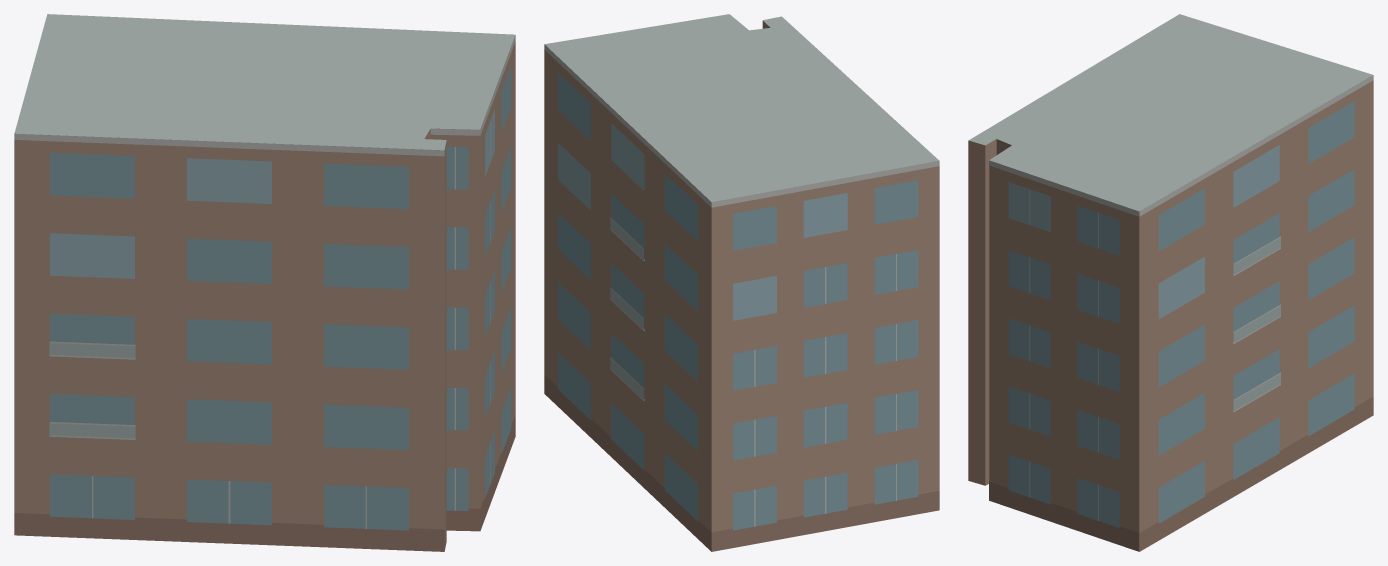
File: survey-upis-32845787.glb
The picture shows the model from 3 angles, left to right: view 1: azimuth 30°, elevation 25°; view 2: azimuth 150°, elevation 25°; view 3: azimuth 270°, elevation 25°; orthographic projection. The views are drawn at different scales.
Parts seen in each view (by area): view 1: survey-upis-32845787.tmp; view 2: survey-upis-32845787.tmp; view 3: survey-upis-32845787.tmp.
Part boxes in pixels (x1=…): survey-upis-32845787.tmp: x1=14, y1=14, x2=515, y2=551; survey-upis-32845787.tmp: x1=544, y1=14, x2=939, y2=551; survey-upis-32845787.tmp: x1=968, y1=14, x2=1373, y2=551.
Bounding box in the file's own units: 19.8 × 15.9 × 17.16.
